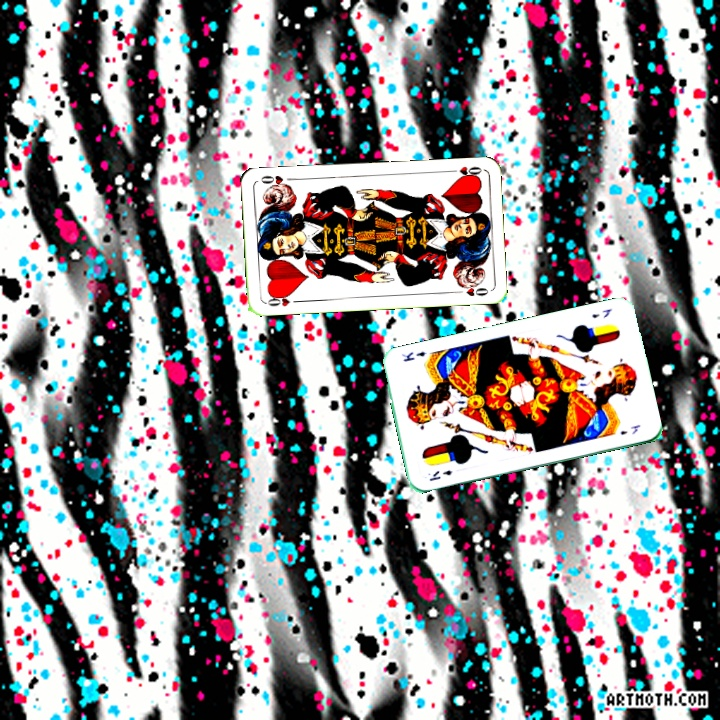EK: (425, 466, 455, 484), (588, 305, 615, 321)
HO: (262, 290, 302, 309), (444, 162, 484, 180)
